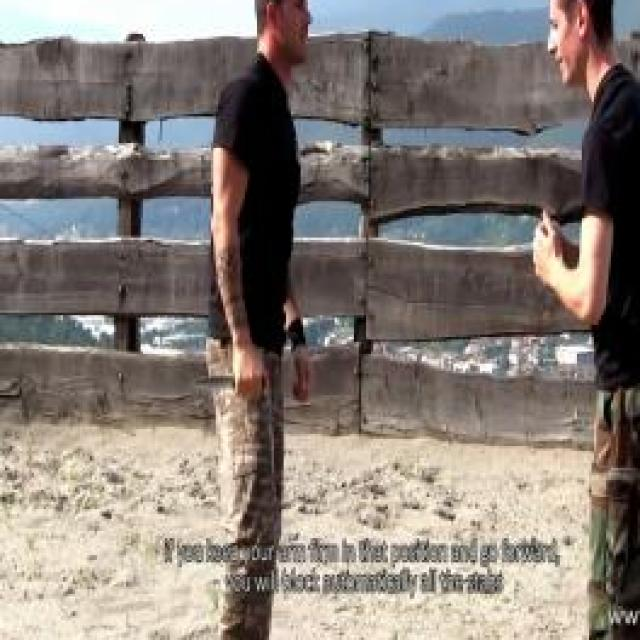knife: (182, 364, 268, 406)
